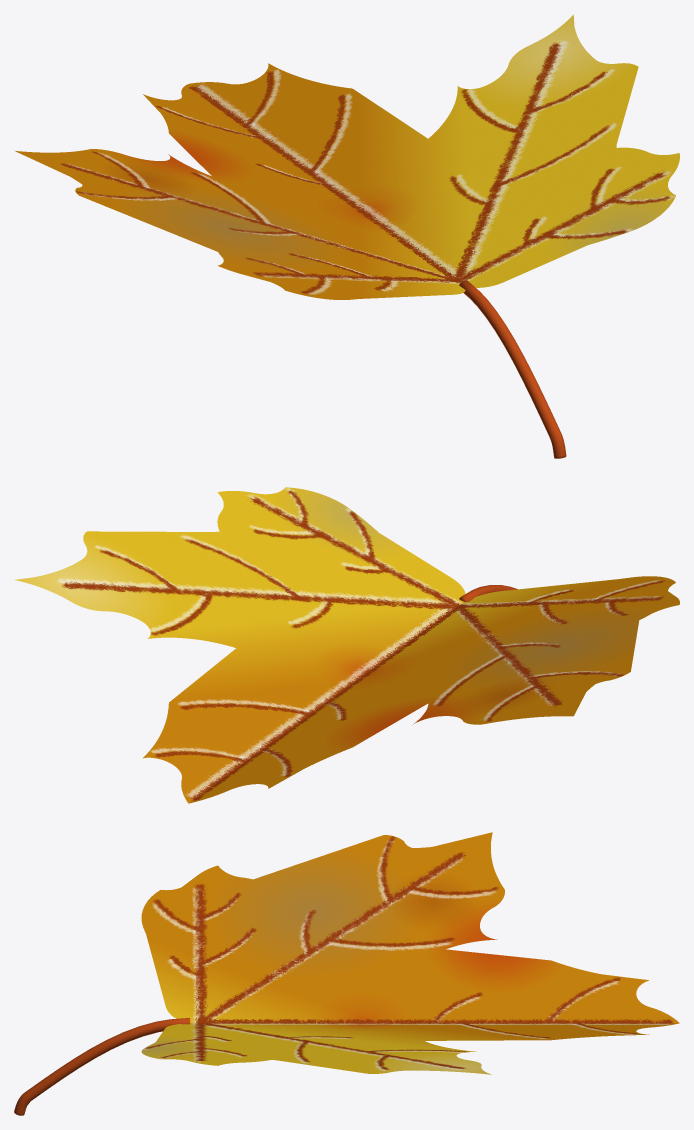
The model's file is leaf1.fbx.
3 views of the same model, one above another, from view 1: azimuth 30°, elevation 25°; view 2: azimuth 150°, elevation 25°; view 3: azimuth 270°, elevation 25° (orthographic). The views are drawn at different scales.
Parts seen in each view (by area): view 1: Model; view 2: Model; view 3: Model.
Boxes of the visible parts, x1,y1,x2,y2 form: Model: (14, 14, 679, 458); Model: (14, 487, 679, 803); Model: (14, 832, 679, 1115).
Bounding box in the file's own units: 20.58 × 6.36 × 23.87.
